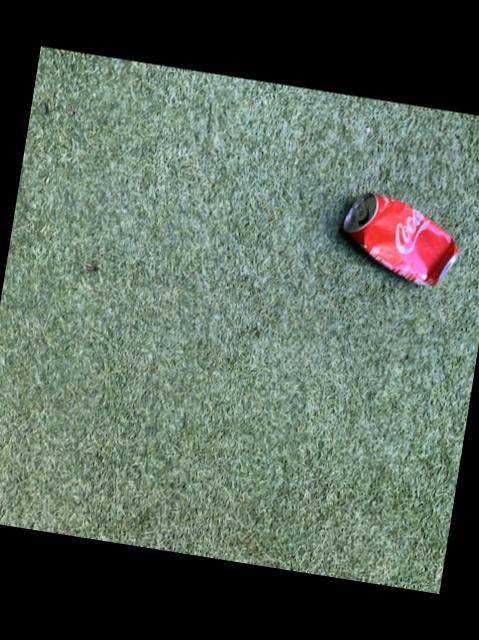metal: (340, 194, 454, 286)
